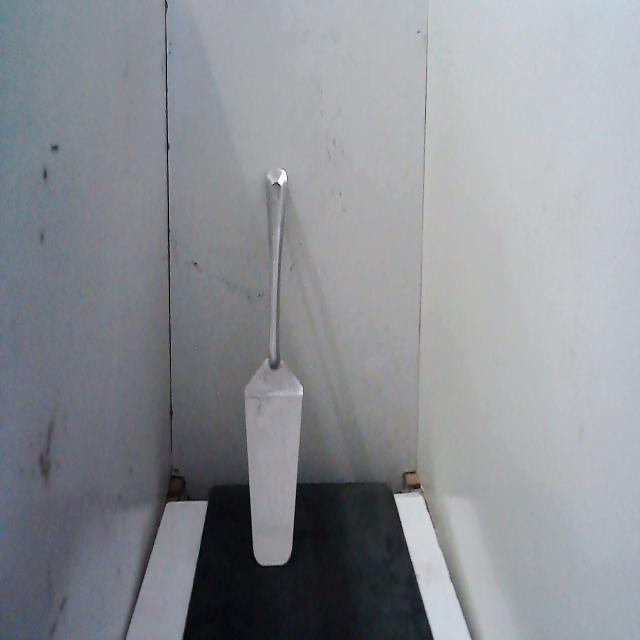metal: (238, 164, 312, 580)
